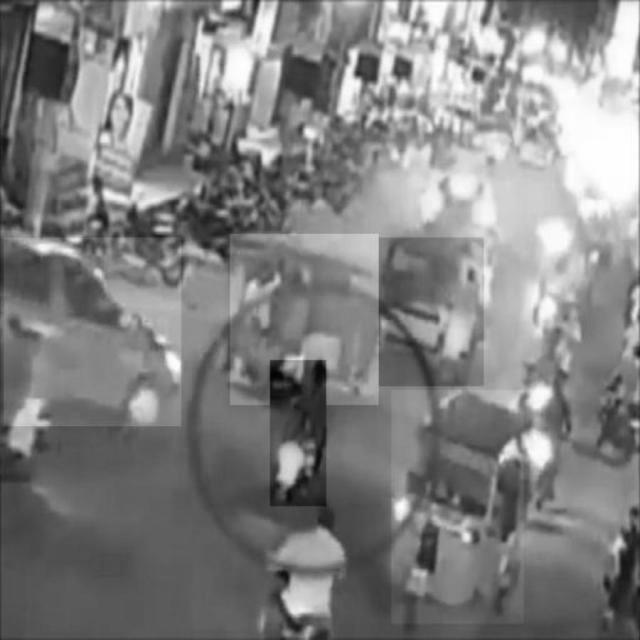vehicle: (4, 238, 181, 426), (391, 391, 523, 624), (230, 234, 378, 404), (378, 238, 484, 386), (270, 360, 326, 506)
